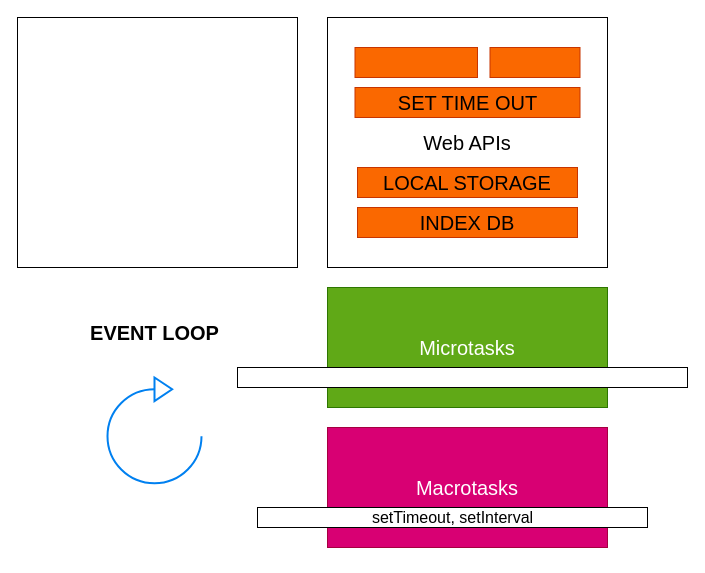
This 705x573 diagram has some shape labels left out. Each missing label, with the centre of its shape:
"Call stack" goes at point 157,142.
"DOM" goes at point 416,62.
"GEO" goes at point 534,62.
"promises, async, queue microtasks, mutationObserver" goes at point 462,377.
